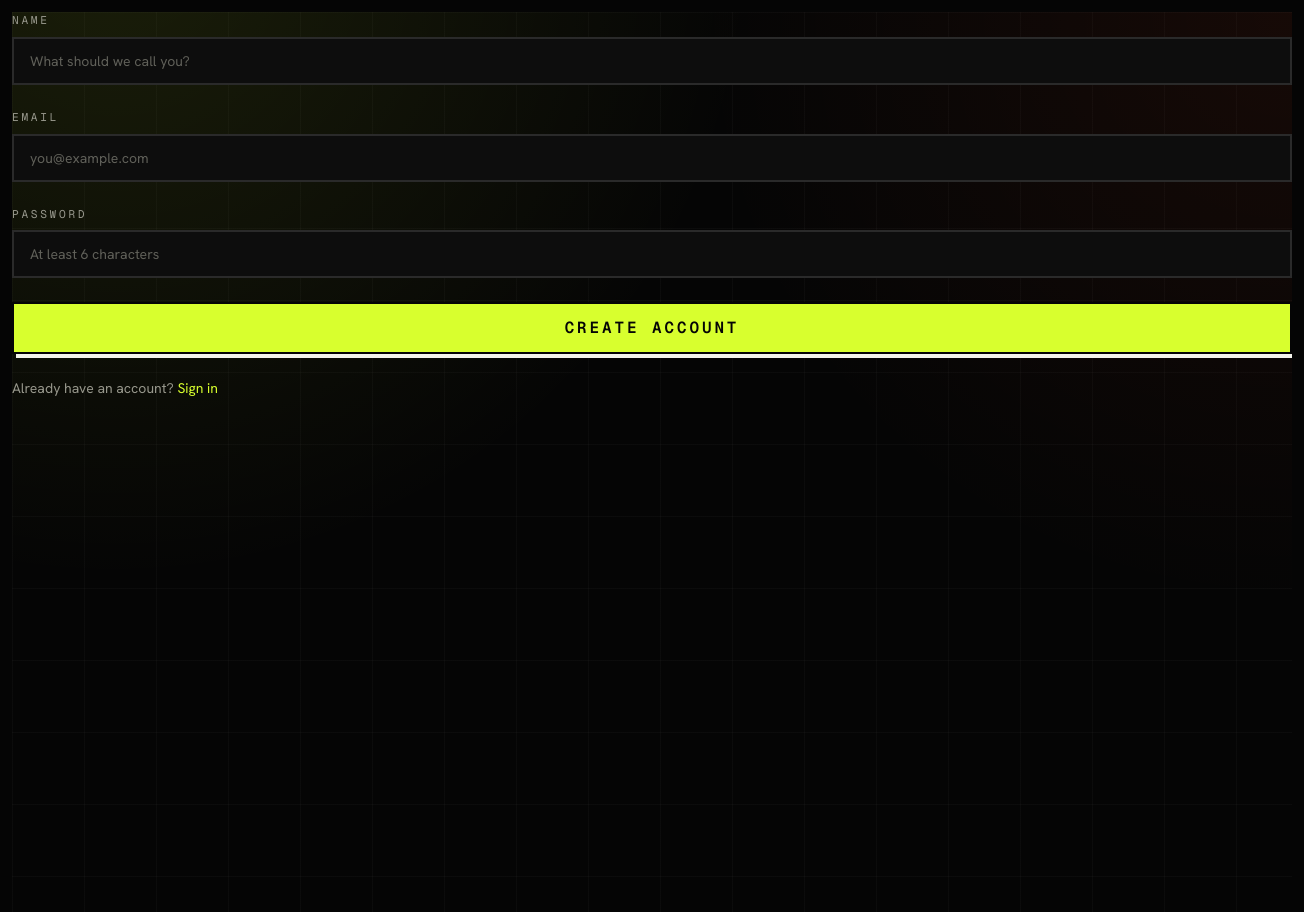
AuthForm (sign-up) › shows a confirm-your-email state when no session is returned
Step 1. Type "a@b.com" into the field labelled "Email" → (652, 158), box [12,134,1292,182]
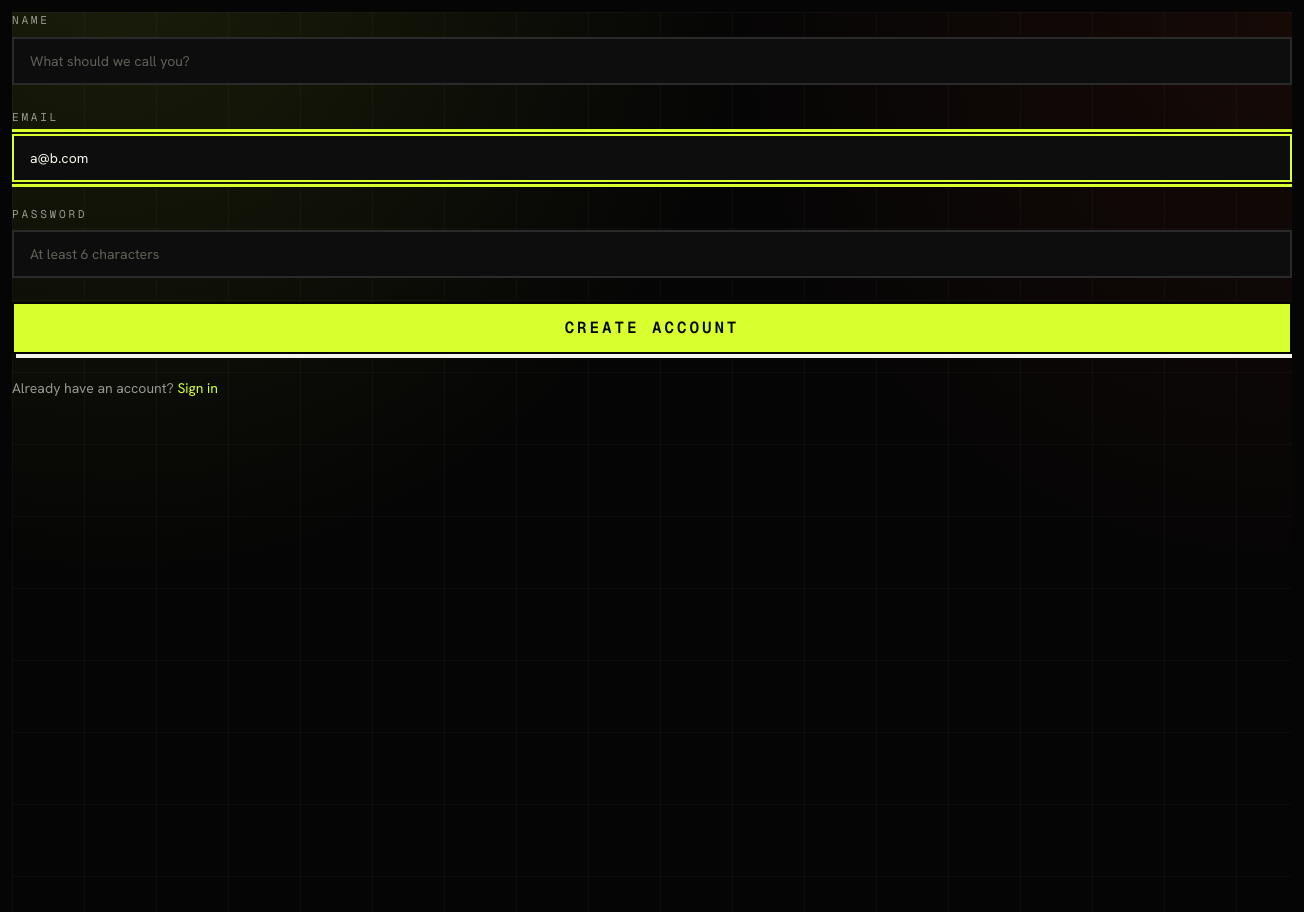
Step 2. Type "secret123" into the password field labelled "Password" → (652, 254), box [12,230,1292,278]
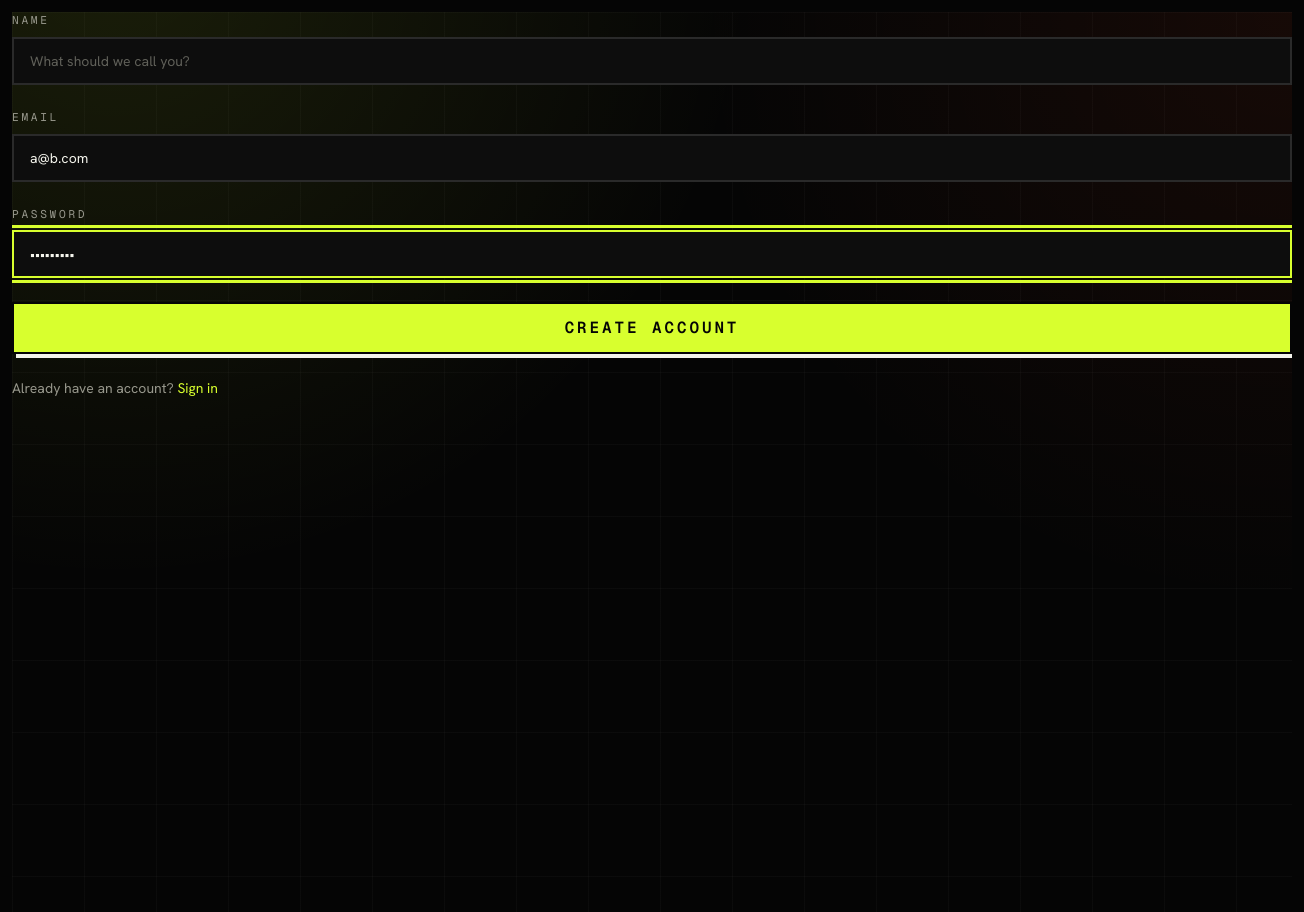
Step 3. Click the button "Create account" → (652, 328), box [12,302,1292,354]
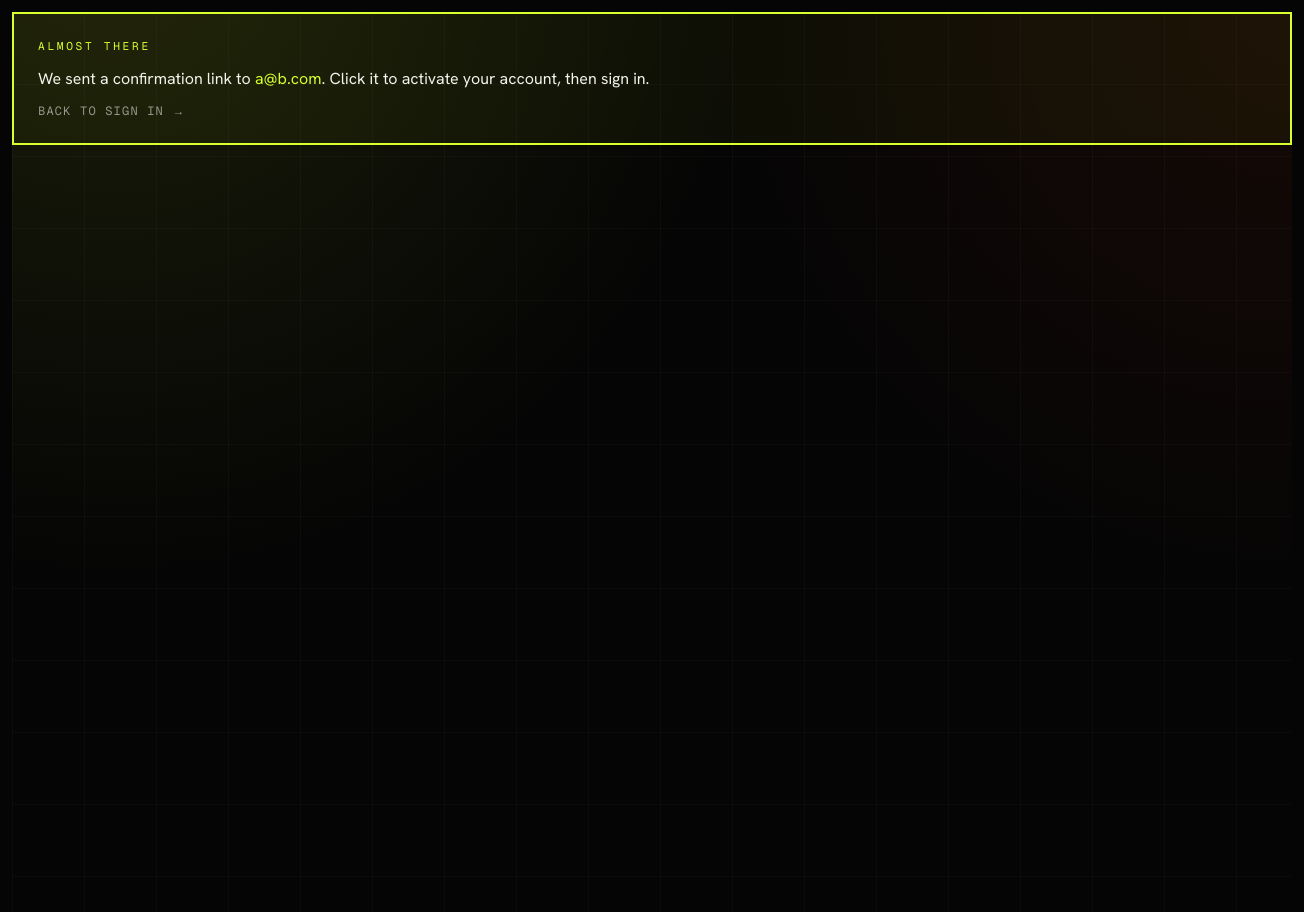
Result: the text "confirmation link" is shown at [38,68,255,89]
